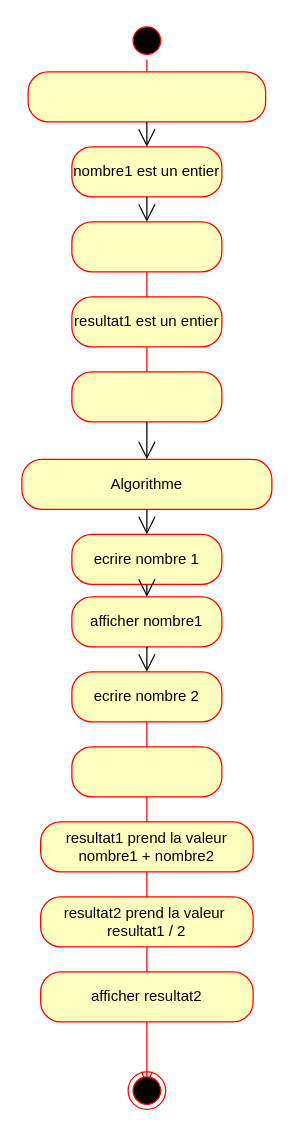
This 294x1131 diagram has some shape labels left out. Each missing label, with the box of its shape:
afficher nombre2: (71, 746, 222, 797)
nombre2 est un entier: (71, 221, 222, 272)
resultat2 est un entier: (71, 371, 222, 422)
Variables: (27, 71, 266, 122)
